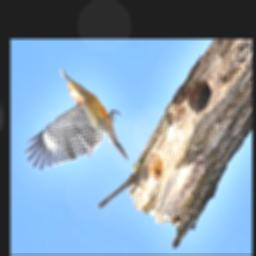Woodpecker: (23, 67, 128, 173)
